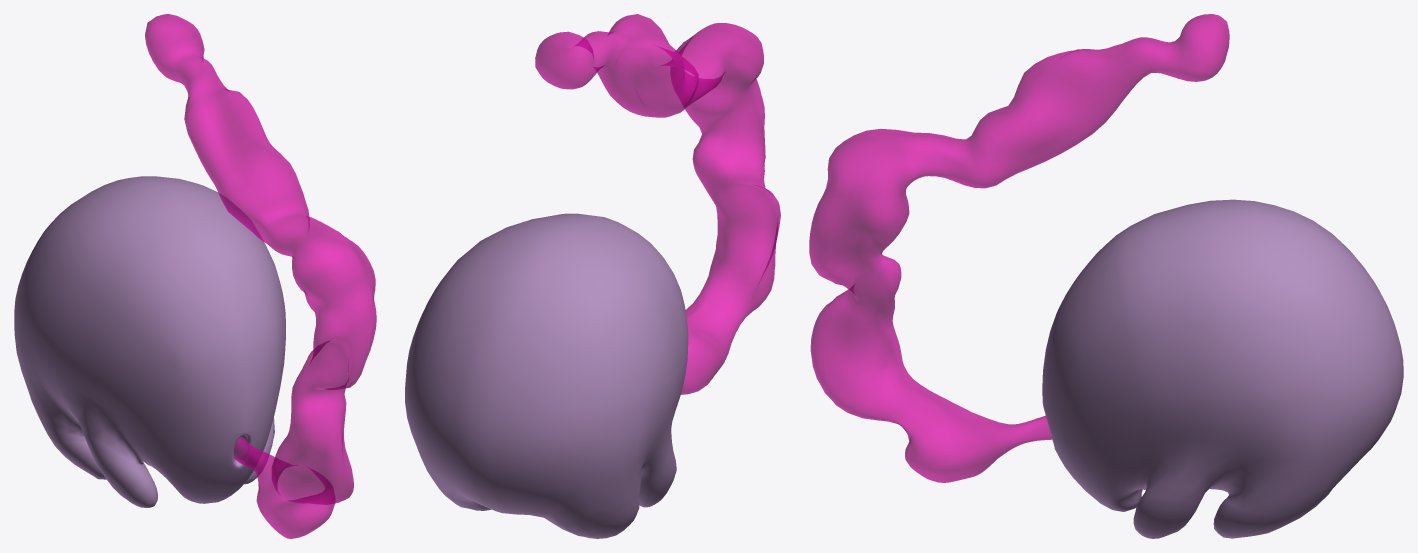
Rendered from Musharna_02.fbx.
The picture shows the model from 3 angles, left to right: view 1: azimuth 30°, elevation 25°; view 2: azimuth 150°, elevation 25°; view 3: azimuth 270°, elevation 25°; orthographic projection. The views are drawn at different scales.
Parts seen in each view (by area): view 1: Musharna_Body_Geo, Musharna_Fog_Geo; view 2: Musharna_Body_Geo, Musharna_Fog_Geo; view 3: Musharna_Body_Geo, Musharna_Fog_Geo.
Part boxes in pixels (left/top/right/bottom): Musharna_Body_Geo: left=14, top=176, right=285, bottom=507; Musharna_Fog_Geo: left=145, top=14, right=376, bottom=538; Musharna_Body_Geo: left=405, top=213, right=688, bottom=538; Musharna_Fog_Geo: left=535, top=14, right=780, bottom=394; Musharna_Body_Geo: left=1042, top=199, right=1403, bottom=538; Musharna_Fog_Geo: left=809, top=14, right=1229, bottom=482.
Size of the model in its own units: 1.78 by 3.52 by 3.84.
